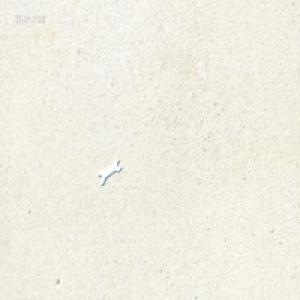Wrench: (98, 155, 121, 183)
